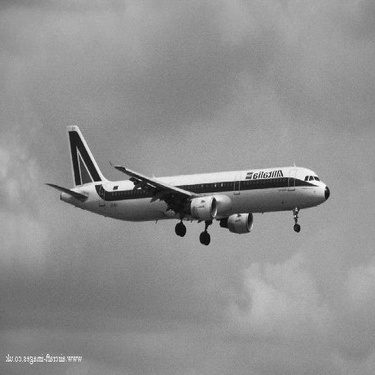airplane: (34, 112, 340, 251)
